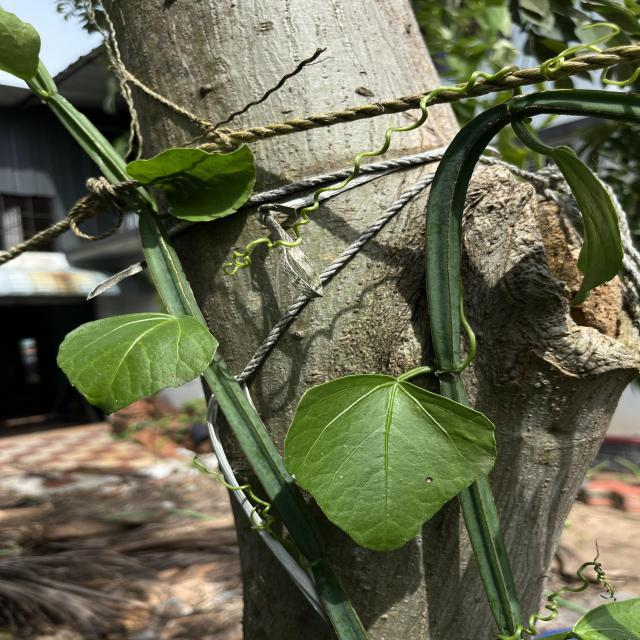Cissus quadrangularis: (278, 371, 500, 555), (53, 309, 223, 419)
